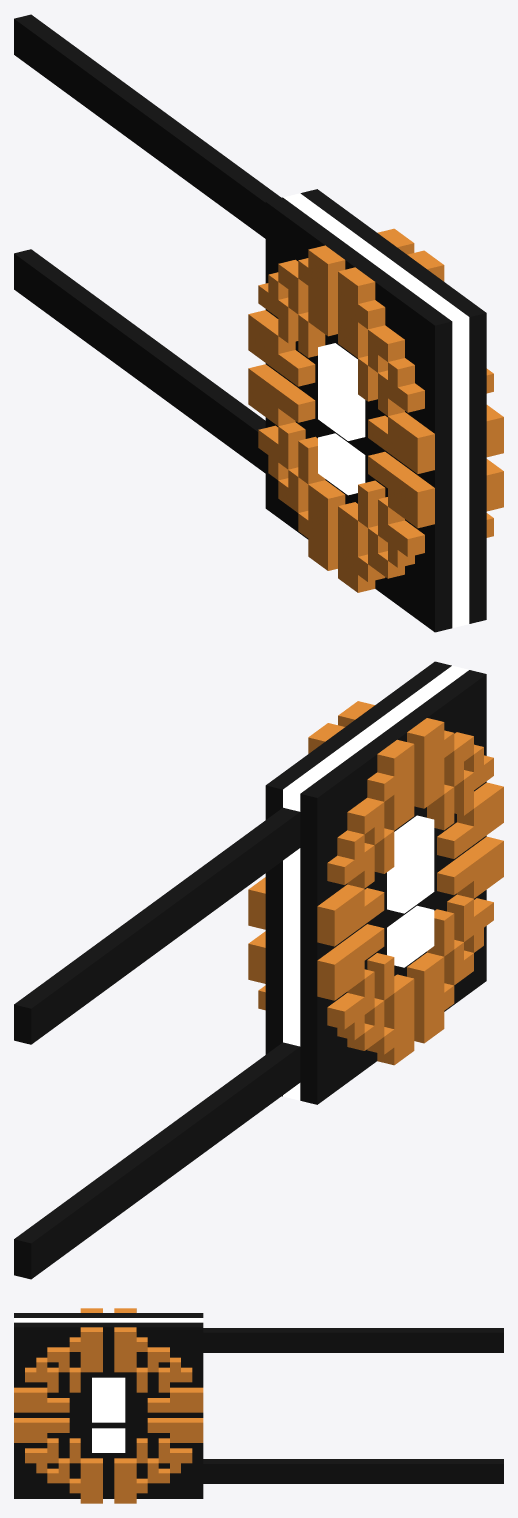
The model's file is ramenIANSign.glb.
The picture shows the model from 3 angles, top to bottom: view 1: azimuth 30°, elevation 25°; view 2: azimuth 150°, elevation 25°; view 3: azimuth 270°, elevation 25°; orthographic projection. The views are drawn at different scales.
Visible parts, largest first — view 1: ObjObject; view 2: ObjObject; view 3: ObjObject.
Part boxes in pixels (x1=…): ObjObject: x1=14, y1=14, x2=503, y2=632; ObjObject: x1=14, y1=661, x2=503, y2=1279; ObjObject: x1=14, y1=1308, x2=503, y2=1503.
Size of the model in its own units: 0.5 by 1.7 by 4.4.
2 materials, 1 textured.
